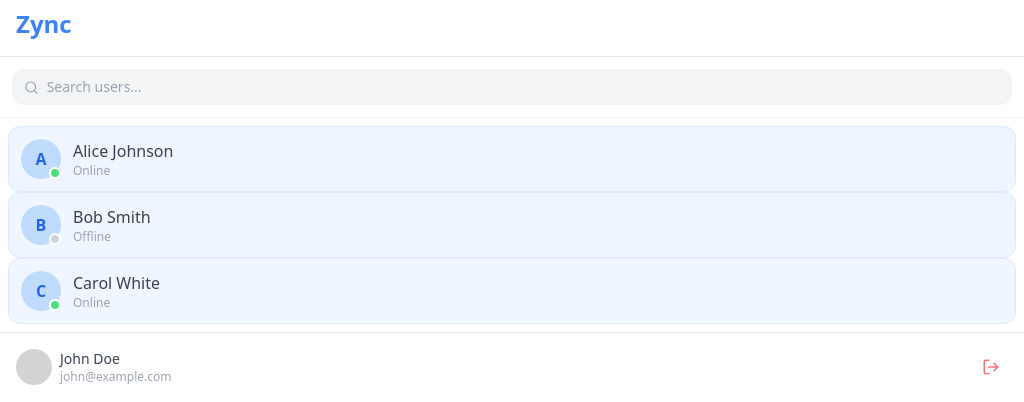
Sidebar Component › shows "No users found" when search returns no results
Type "xyz" into the field with placeholder "Search users..." at (523, 87), box [47,77,1000,97]
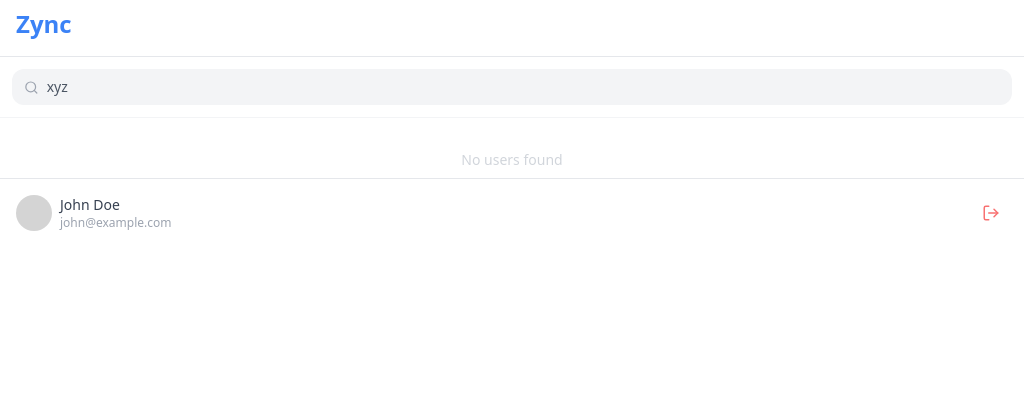
Now the text "No users found" is shown, box [461,150,563,169]
